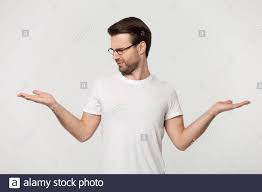white_male: (106, 32, 144, 76)
